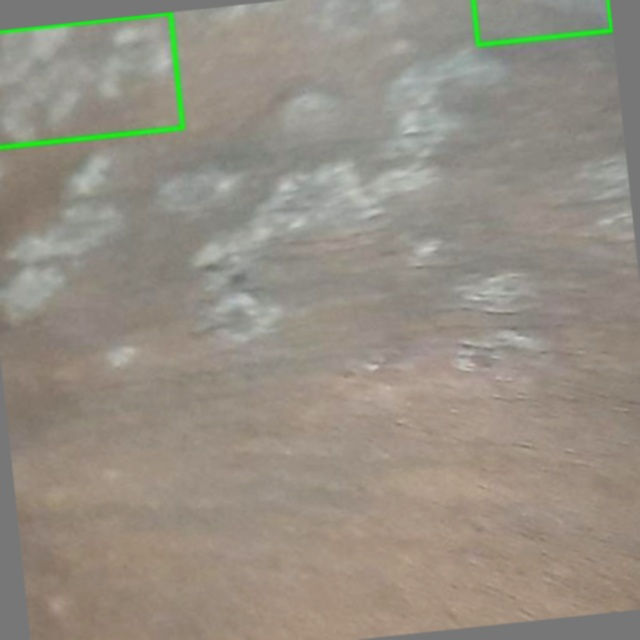Seborrheic Dermatitis: (0, 13, 182, 147)
